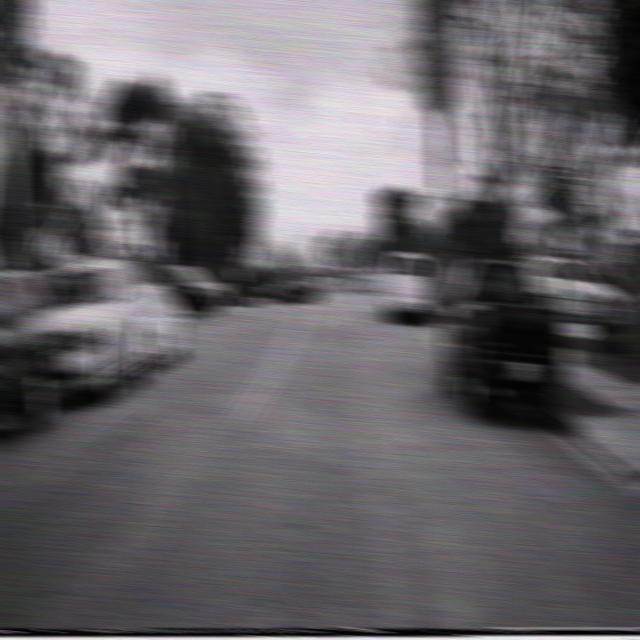doNotEnter: (101, 214, 125, 252)
stop: (429, 188, 455, 223)
